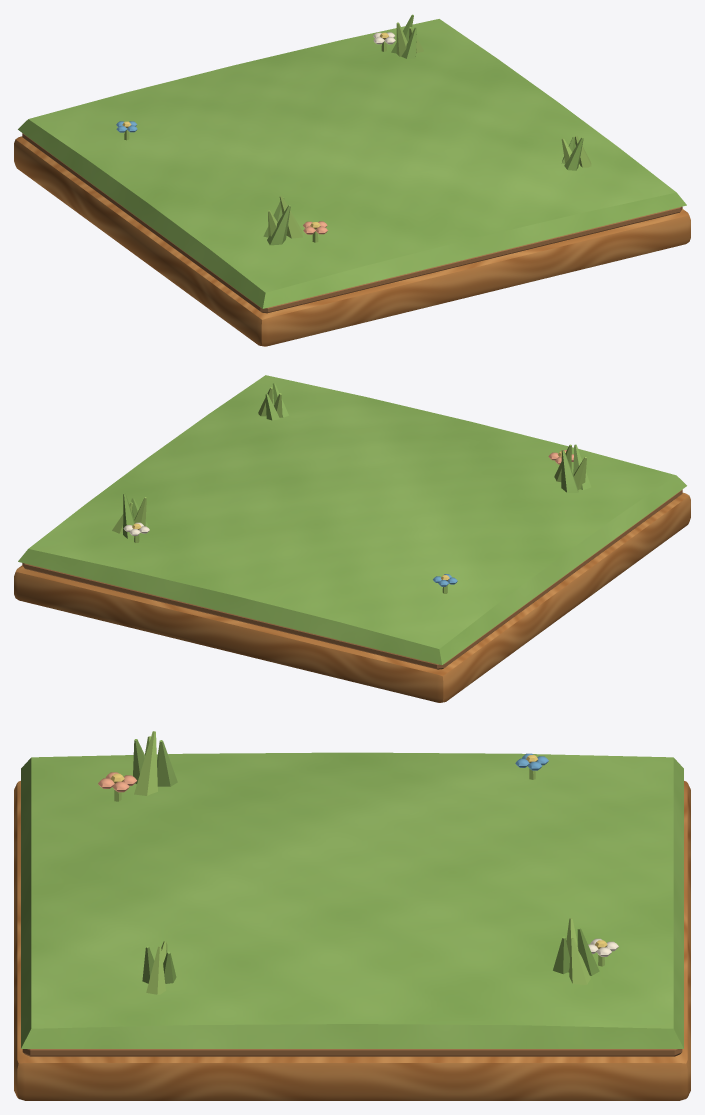
The model's file is tuile_herbe.glb.
3 renders of one model, top to bottom at view 1: azimuth 30°, elevation 25°; view 2: azimuth 150°, elevation 25°; view 3: azimuth 270°, elevation 25°, orthographic. The views are drawn at different scales.
Parts seen in each view (by area): view 1: tuile_herbe; view 2: tuile_herbe; view 3: tuile_herbe.
Part boxes in pixels (left/top/right/bottom): tuile_herbe: left=14, top=14, right=690, bottom=346; tuile_herbe: left=14, top=375, right=690, bottom=702; tuile_herbe: left=14, top=731, right=690, bottom=1100.
Size of the model in its own units: 1.96 by 0.4323 by 1.96.
8 materials, 2 textured.
